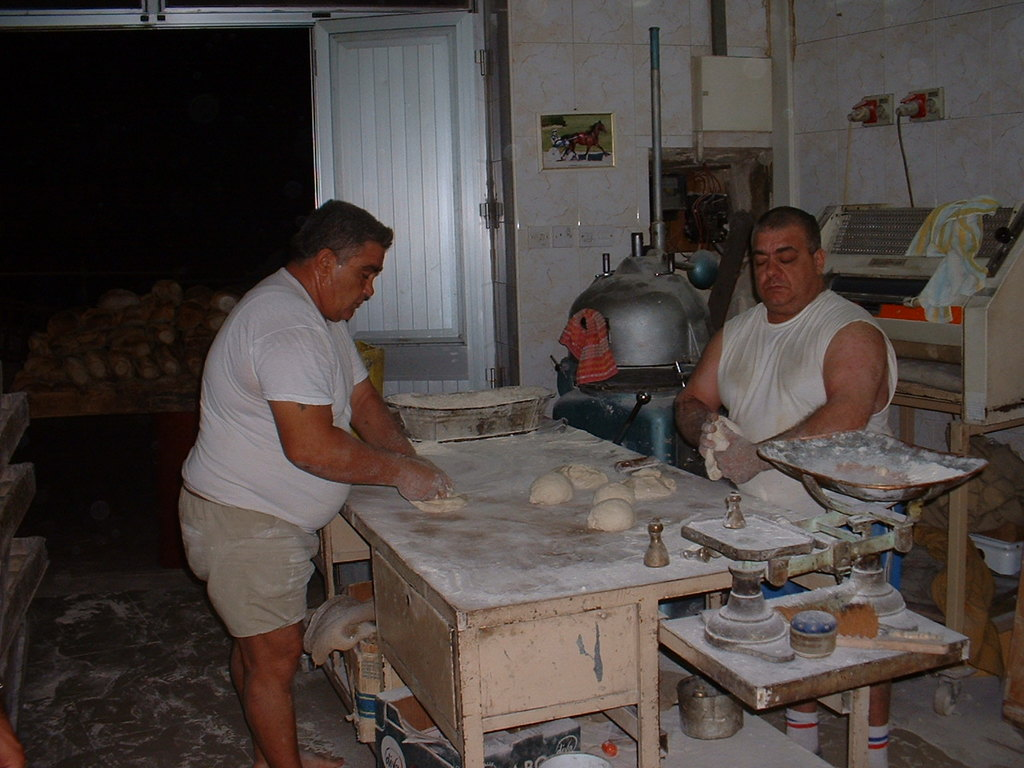Table: (317, 401, 839, 768)
